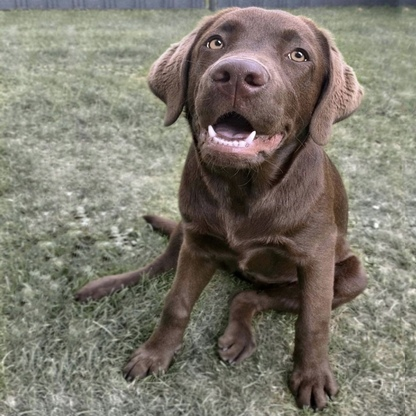labrado: (67, 1, 380, 416)
